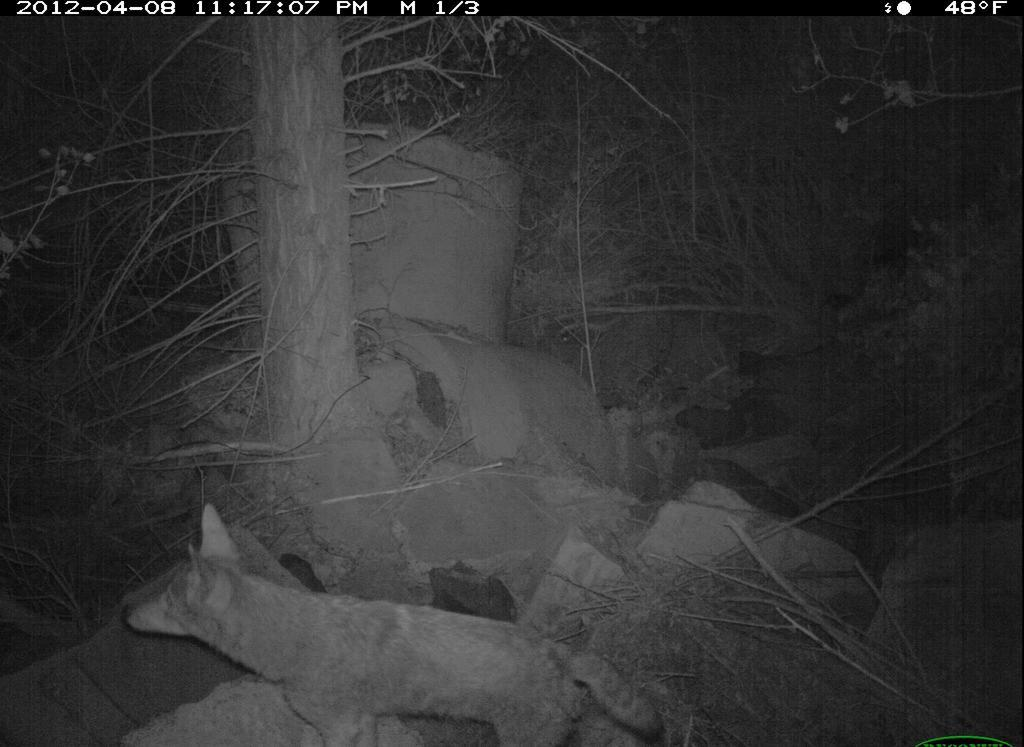coyote: (113, 491, 674, 747)
